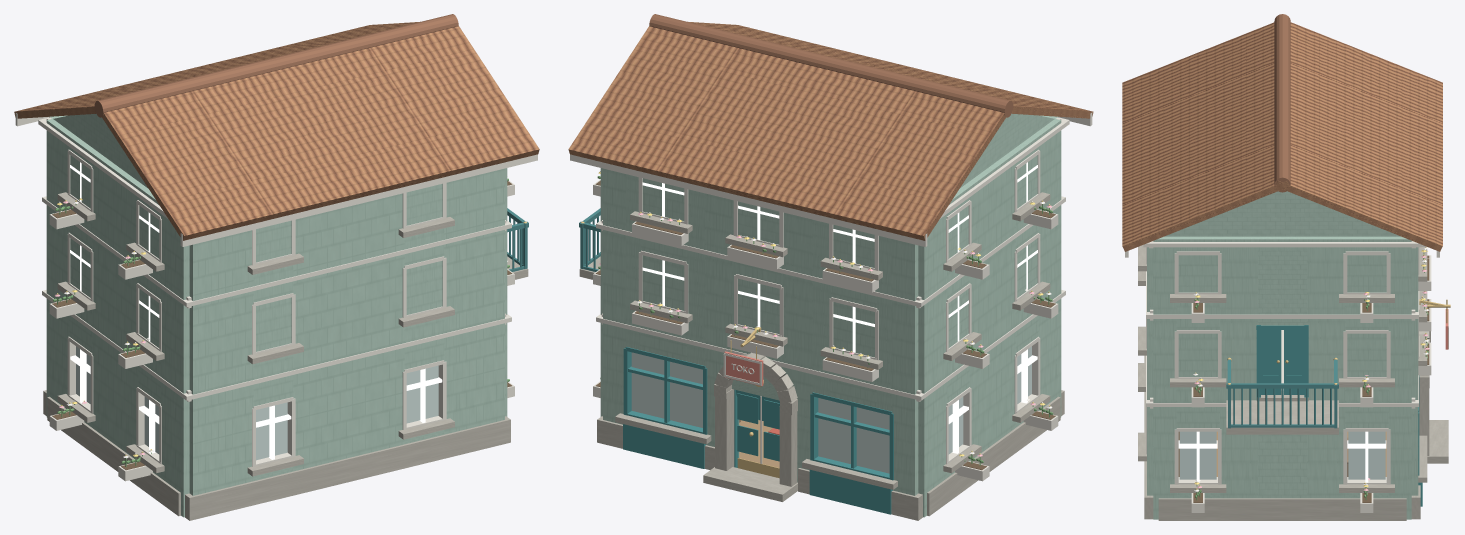
File: gedung-g01-blender-v3.glb
The picture shows the model from 3 angles, left to right: view 1: azimuth 30°, elevation 25°; view 2: azimuth 150°, elevation 25°; view 3: azimuth 270°, elevation 25°; orthographic projection. The views are drawn at different scales.
Parts seen in each view (by area): view 1: BK_B1; view 2: BK_B1; view 3: BK_B1.
Part boxes in pixels (<box>): BK_B1: <box>14,14,539,520</box>; BK_B1: <box>568,14,1093,520</box>; BK_B1: <box>1122,14,1450,520</box>.
Size of the model in its own units: 10.38 by 8.91 by 7.59.
32 materials, 3 textured.
